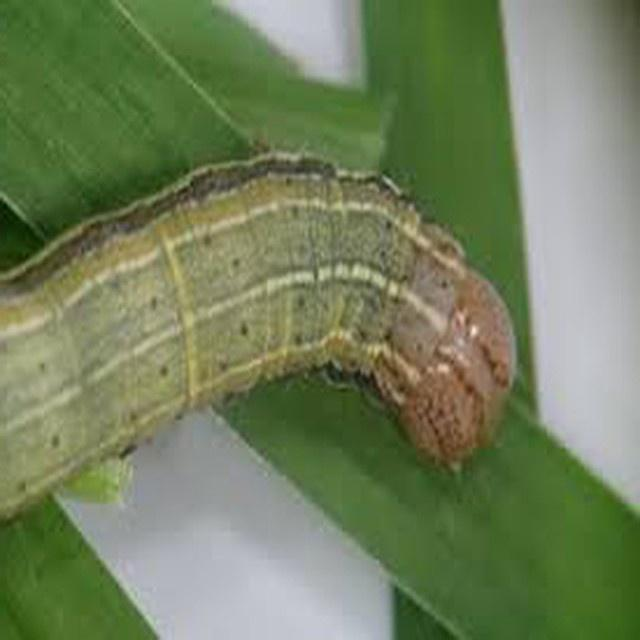gusano_cogollero: (17, 150, 520, 468)
